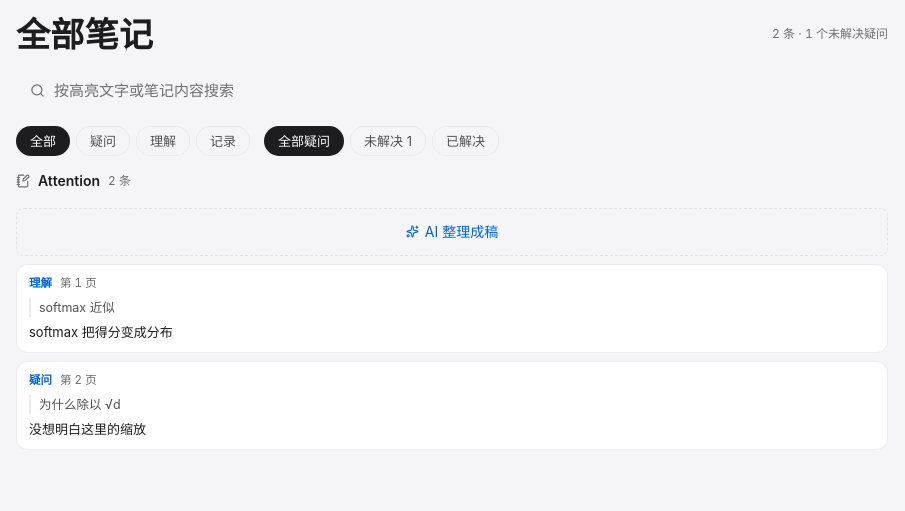
Test case: NotesView AI draft flow › reports a failure without pretending a draft exists
Click the button "AI 整理成稿" at (452, 232), box 27,217 -> 877,247
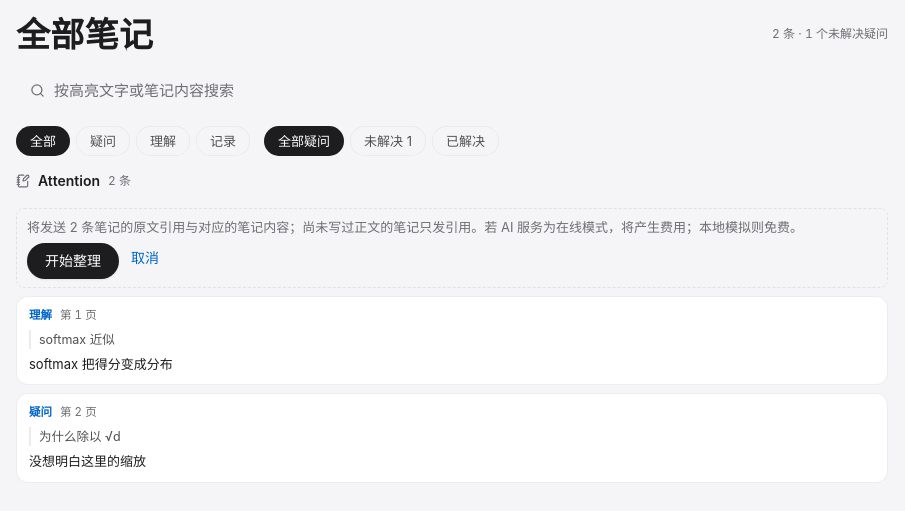
Click the button "开始整理" at (73, 261), box 27,243 -> 119,279
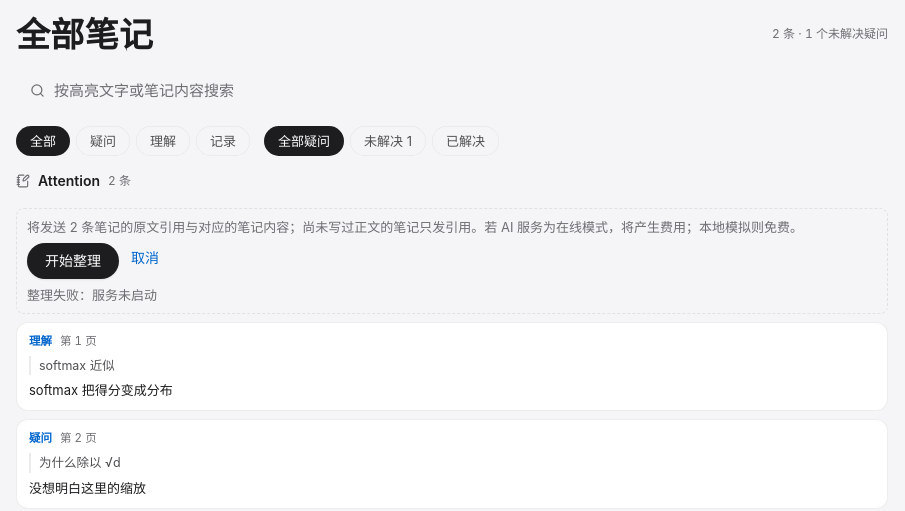
Check: the message "整理失败：服务未启动" is shown, box 27,287 -> 157,303
